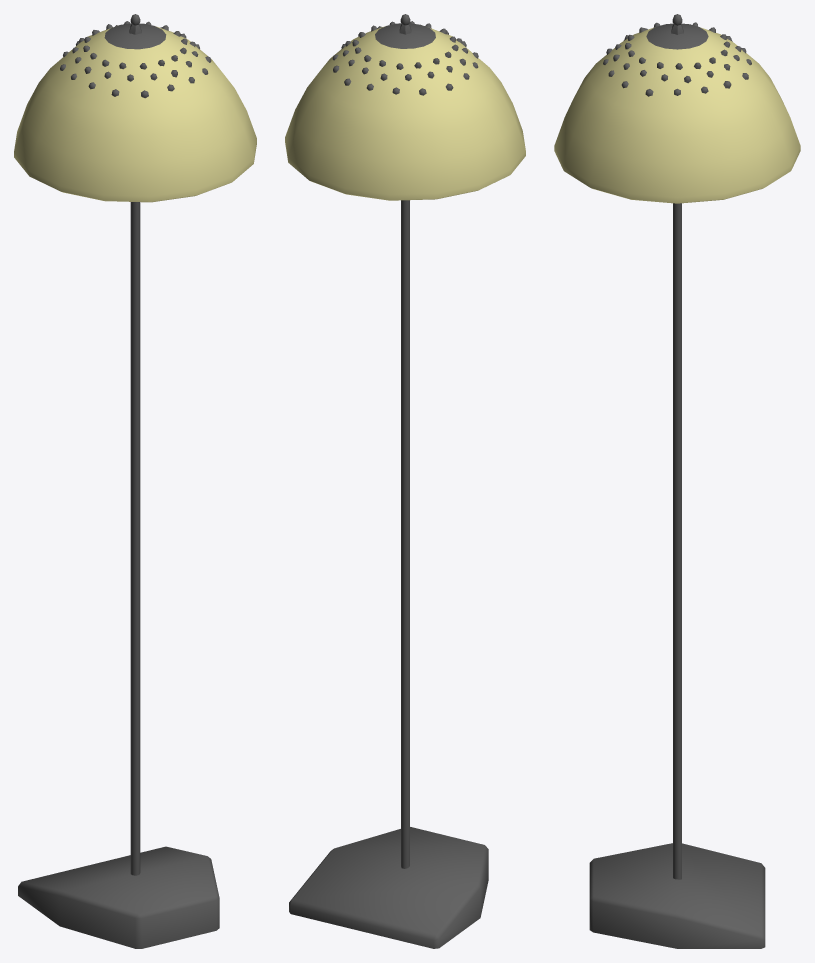
The picture shows the model from 3 angles, left to right: view 1: azimuth 30°, elevation 25°; view 2: azimuth 150°, elevation 25°; view 3: azimuth 270°, elevation 25°; orthographic projection.
Visible parts, largest first — view 1: F16456; view 2: F16456; view 3: F16456.
Part boxes in pixels (x1,y1,x2,y2): F16456: (14, 14, 256, 948); F16456: (285, 14, 525, 948); F16456: (554, 14, 800, 948).
Size of the model in its own units: 1041 by 4191 by 1041.
